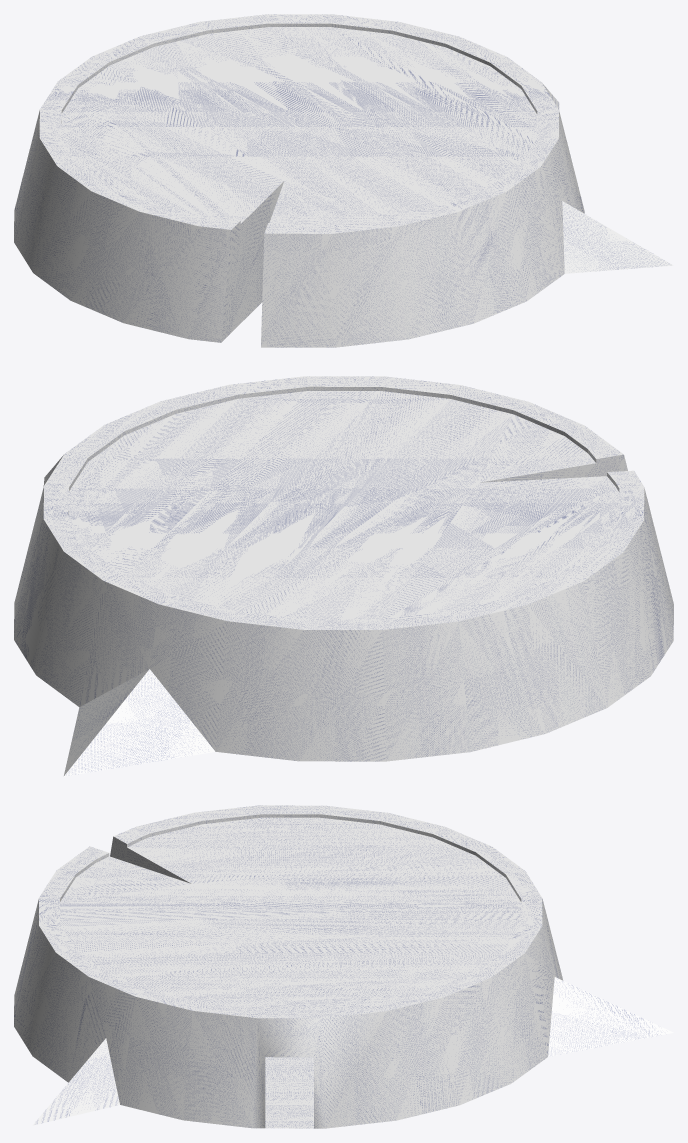
The model's file is stumphouse.fbx.
The picture shows the model from 3 angles, top to bottom: view 1: azimuth 30°, elevation 25°; view 2: azimuth 150°, elevation 25°; view 3: azimuth 270°, elevation 25°; orthographic projection. The views are drawn at different scales.
Visible parts, largest first — view 1: Model; view 2: Model; view 3: Model.
Part boxes in pixels (x1=…): Model: x1=14, y1=14, x2=673, y2=347; Model: x1=14, y1=376, x2=673, y2=776; Model: x1=14, y1=805, x2=673, y2=1128.
Size of the model in its own units: 14.68 by 2.92 by 17.51.
